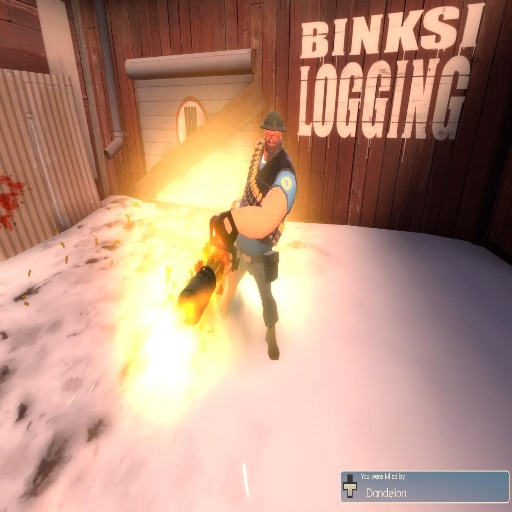hand: (213, 212, 233, 250), (230, 197, 241, 209)
